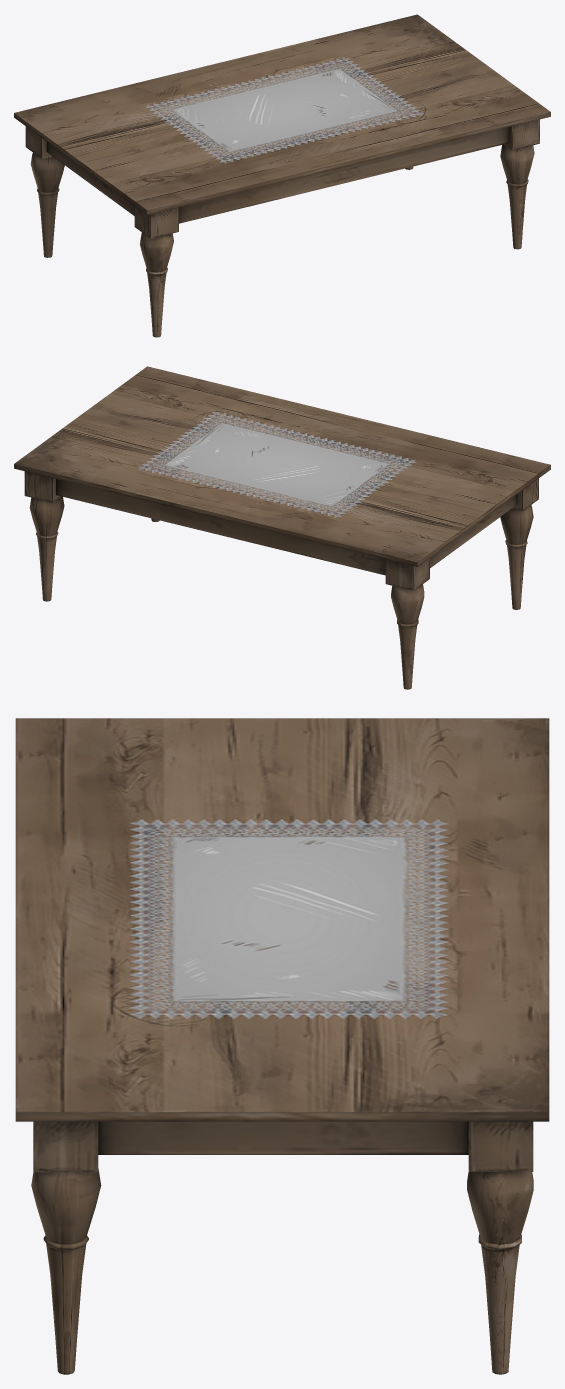
File: kitchenTable.fbx
The picture shows the model from 3 angles, top to bottom: view 1: azimuth 30°, elevation 25°; view 2: azimuth 150°, elevation 25°; view 3: azimuth 270°, elevation 25°; orthographic projection. The views are drawn at different scales.
Visible parts, largest first — view 1: polySurface584; view 2: polySurface584; view 3: polySurface584.
Part boxes in pixels (<box>): polySurface584: <box>14,14,550,337</box>; polySurface584: <box>14,366,550,689</box>; polySurface584: <box>15,718,549,1374</box>.
Bounding box in the file's own units: 251 × 82.88 × 143.
